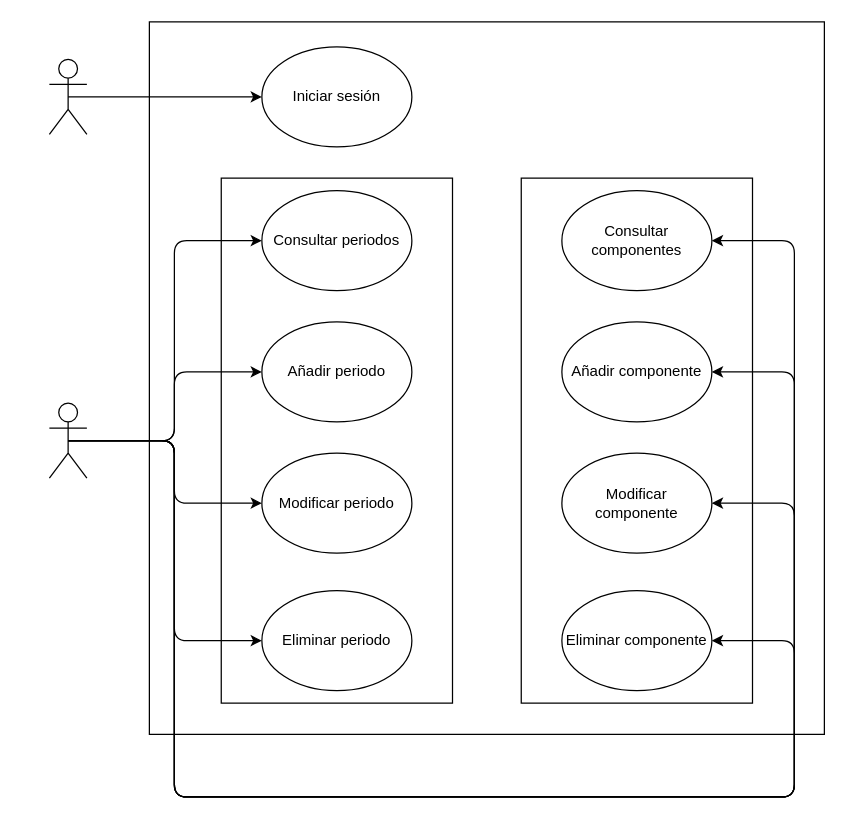
This 846x829 diagram has some shape labels left out. The shapes that lost their labels are listed below. From the top down, each one's centre as x and y in pixels, then its label:
the point at 67,96: Usuario
the point at 67,440: Administrador
